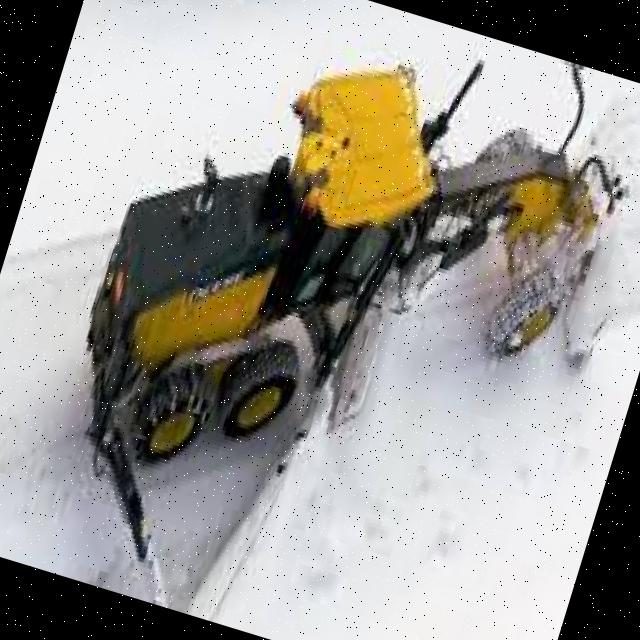Grader: (41, 0, 640, 602)
